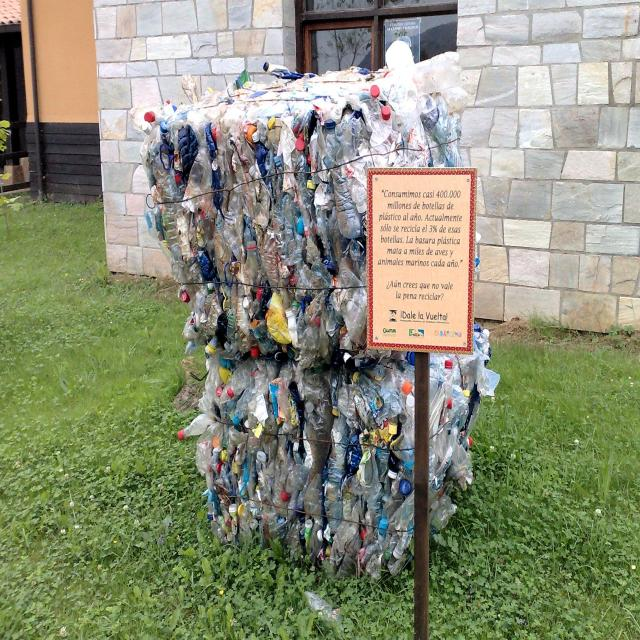plastic: (220, 340, 403, 562), (202, 110, 339, 266)
